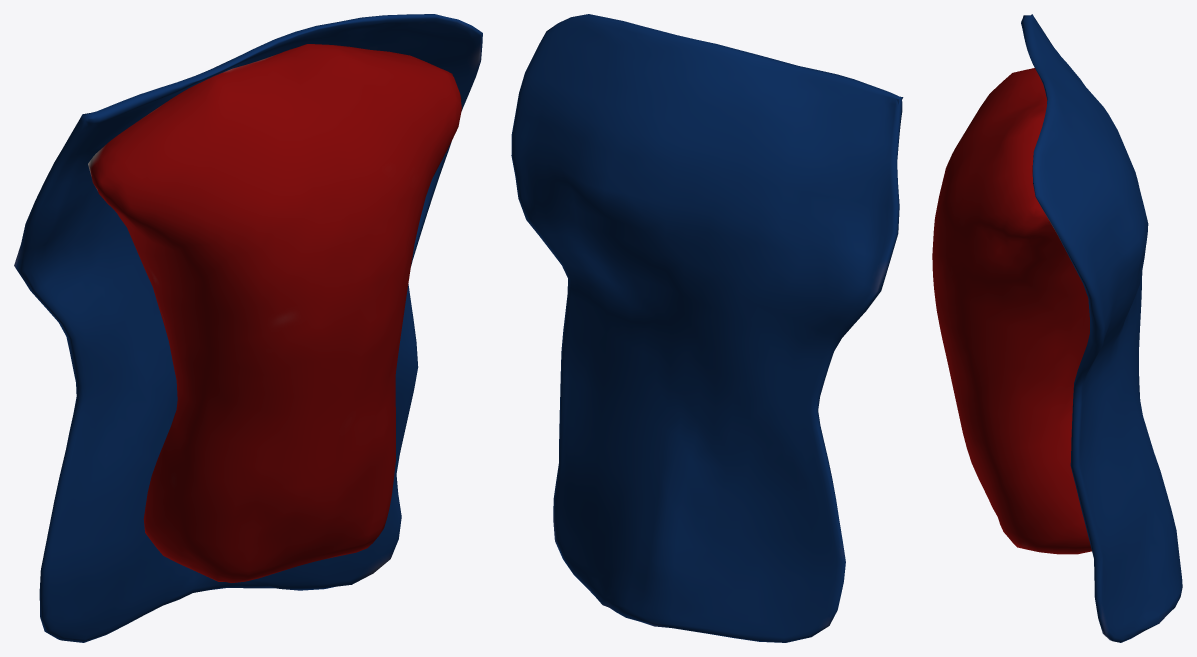
The model's file is Man_Body.fbx.
3 renders of one model, left to right at view 1: azimuth 30°, elevation 25°; view 2: azimuth 150°, elevation 25°; view 3: azimuth 270°, elevation 25°, orthographic. The views are drawn at different scales.
Visible parts, largest first — view 1: Man_Bodyy, Man_cloak; view 2: Man_cloak; view 3: Man_Bodyy, Man_cloak.
Part boxes in pixels (left/top/right/bottom): Man_Bodyy: left=88, top=44, right=461, bottom=582; Man_cloak: left=14, top=14, right=482, bottom=642; Man_cloak: left=511, top=14, right=903, bottom=642; Man_Bodyy: left=932, top=68, right=1091, bottom=554; Man_cloak: left=1021, top=14, right=1182, bottom=642.
Size of the model in its own units: 35.68 by 47.35 by 20.65.
Materials: 2 (2 with a texture image).
